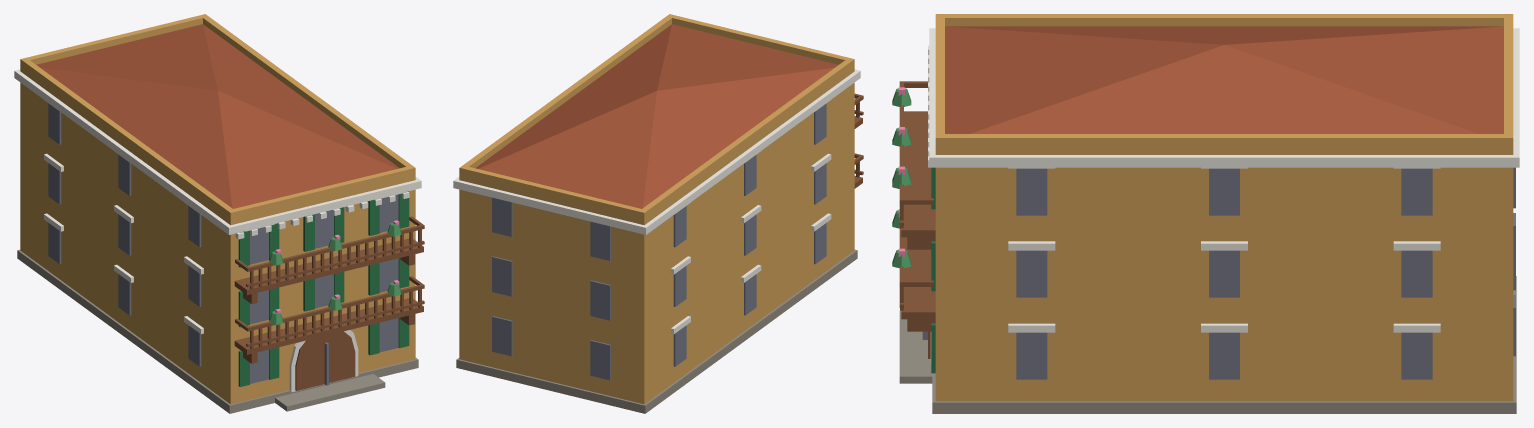
File: house-1x2-3f-colonial-a.glb
3 views of the same model, side by side, from view 1: azimuth 30°, elevation 25°; view 2: azimuth 150°, elevation 25°; view 3: azimuth 270°, elevation 25° (orthographic). The views are drawn at different scales.
Visible parts, largest first — view 1: house-1x2-3f-colonial-a; view 2: house-1x2-3f-colonial-a; view 3: house-1x2-3f-colonial-a.
Part boxes in pixels (<box>): house-1x2-3f-colonial-a: <box>14,14,424,413</box>; house-1x2-3f-colonial-a: <box>453,14,863,413</box>; house-1x2-3f-colonial-a: <box>892,14,1519,413</box>.
Size of the model in its own units: 0.98 by 1.08 by 2.01.
Materials: 1 (1 with a texture image).
